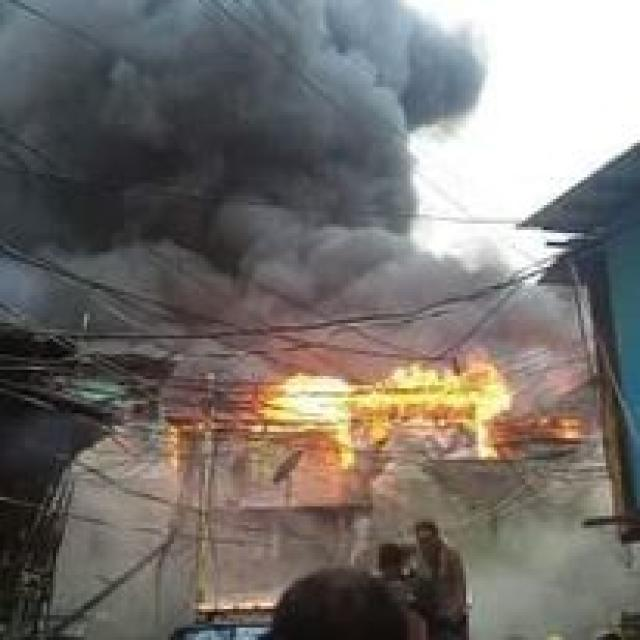Fire: (241, 360, 534, 460)
Smoke: (0, 0, 494, 273), (50, 243, 564, 401)
